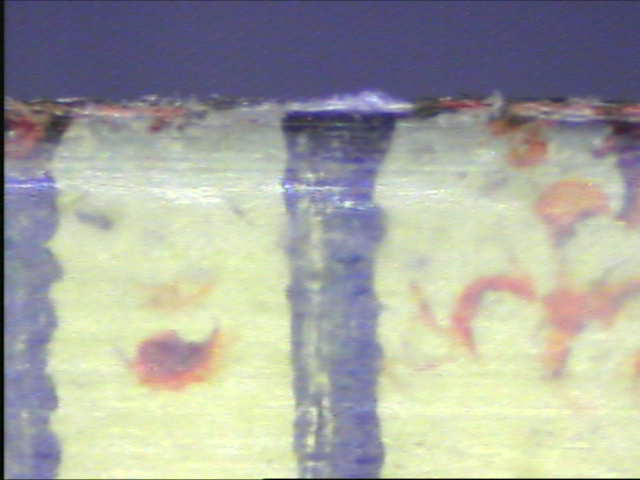line: (280, 111, 399, 474)
